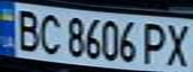0: (100, 17, 121, 62)
6: (118, 18, 142, 64), (81, 16, 103, 61)
8: (60, 14, 87, 58)
B: (9, 6, 42, 53)
C: (33, 10, 63, 55)
P: (139, 19, 172, 66)
X: (160, 20, 193, 69)
